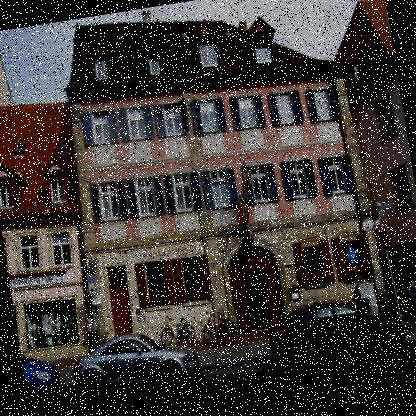Car: (265, 284, 411, 370), (68, 322, 202, 398), (18, 328, 63, 408), (395, 319, 415, 388)
